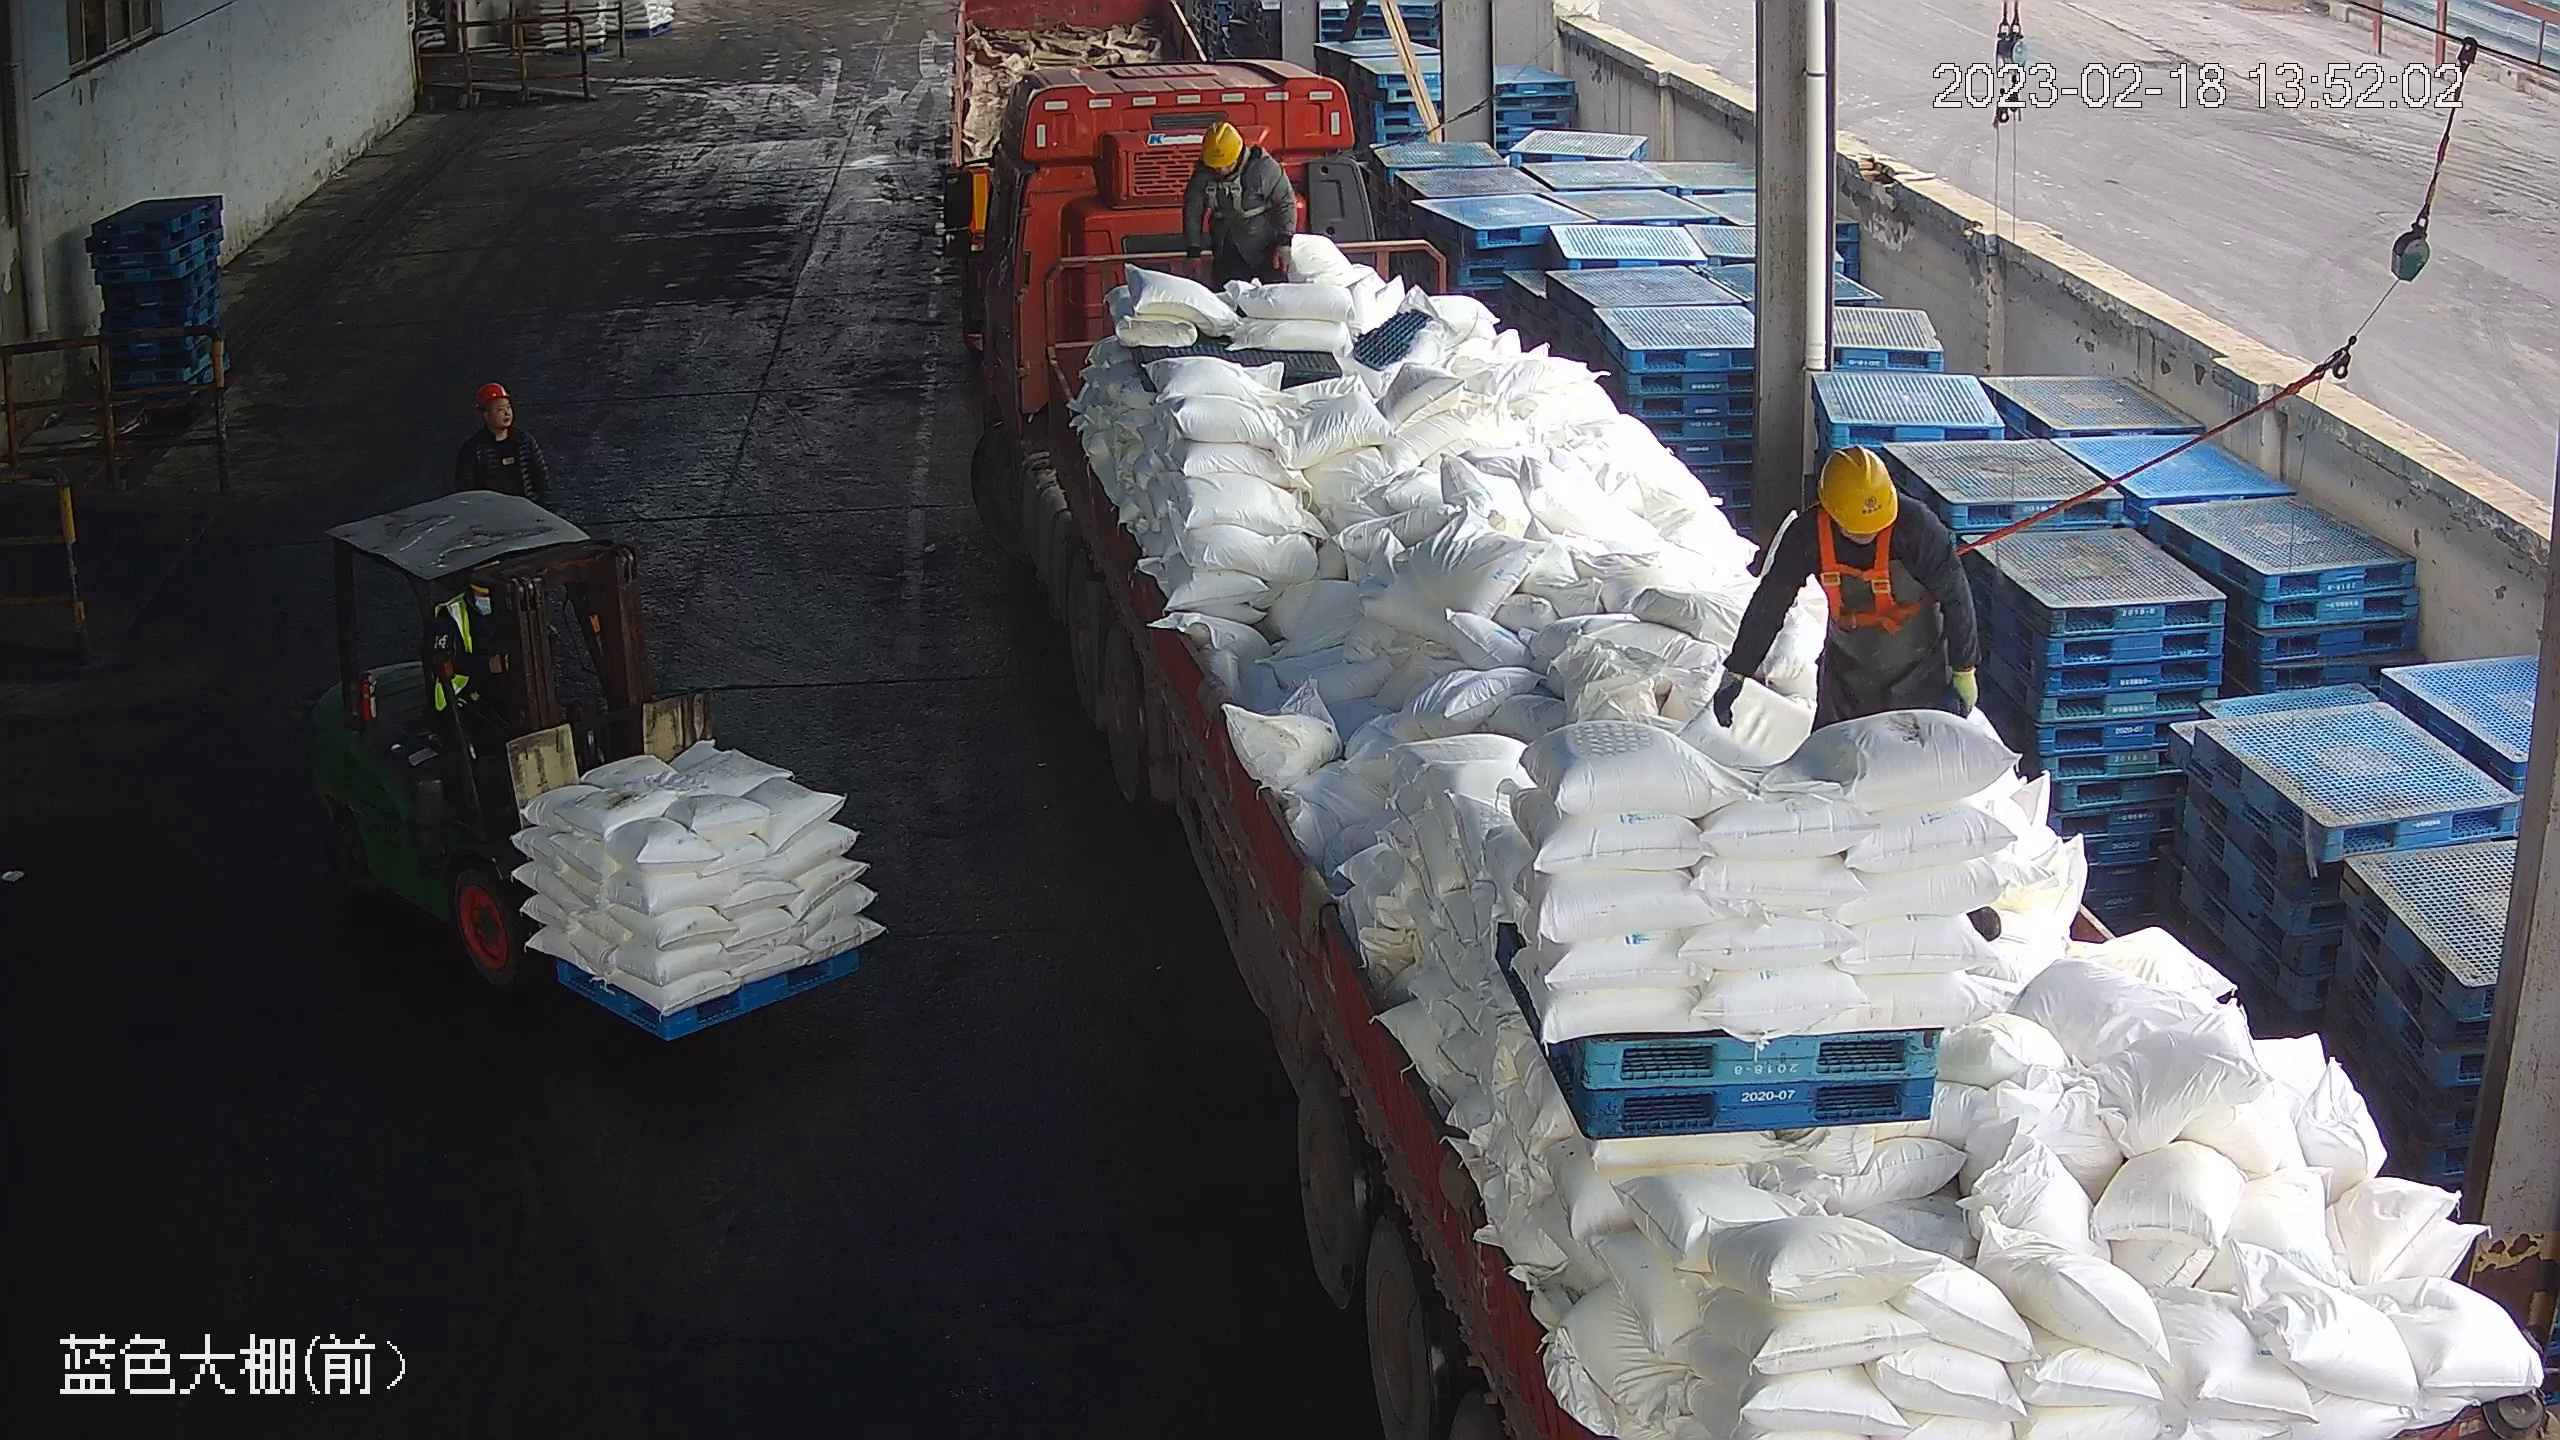belt: (1808, 509, 1955, 630), (1197, 170, 1283, 233)
head: (1771, 445, 1957, 618), (1179, 124, 1275, 208), (458, 383, 542, 475)
helmet: (1817, 444, 1900, 533), (1201, 120, 1246, 169), (474, 384, 508, 406)
people: (1715, 439, 1981, 739), (1181, 125, 1298, 301)
truck: (951, 56, 2560, 1440)
